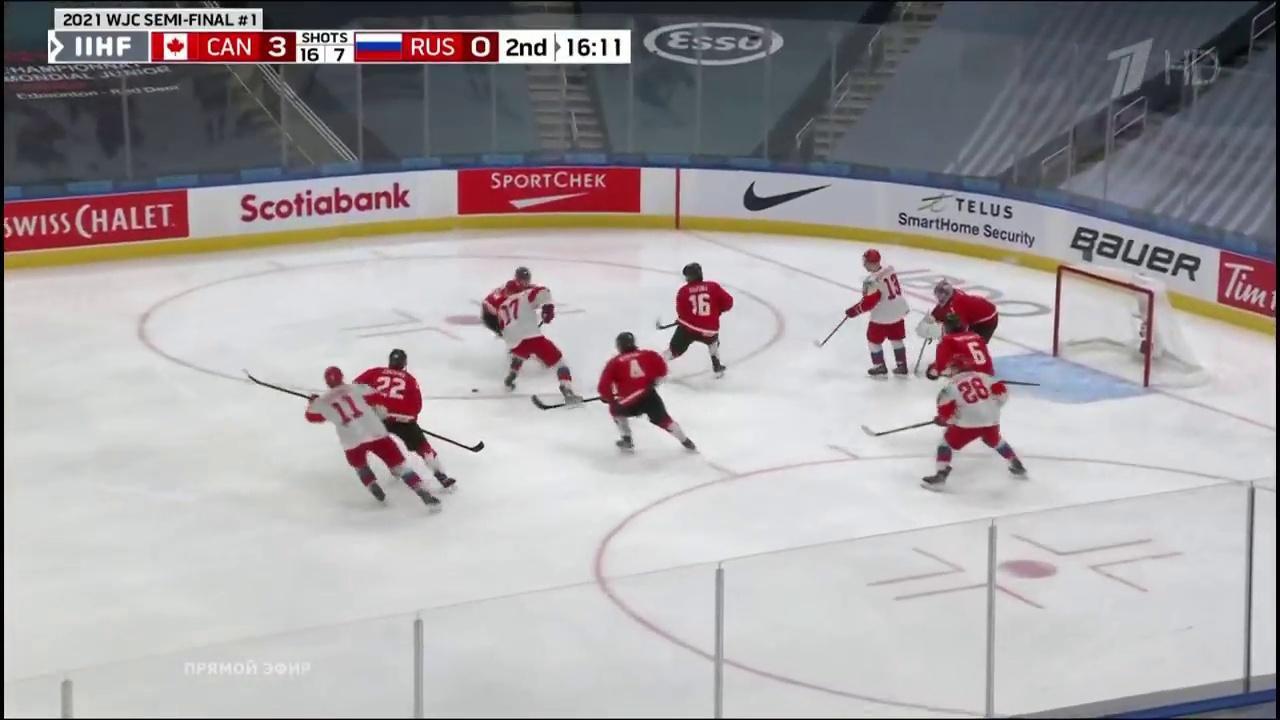ball: (472, 388, 479, 393)
